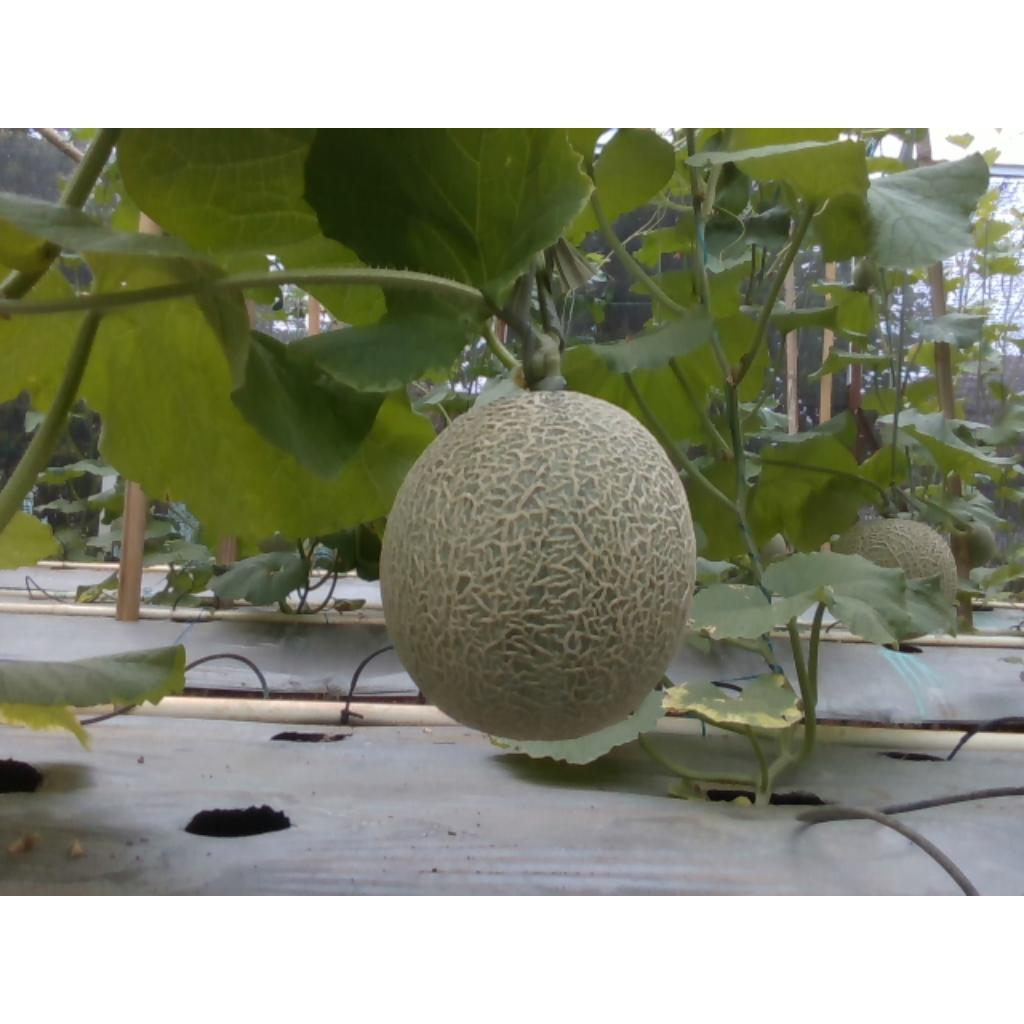melon: (381, 390, 698, 740)
